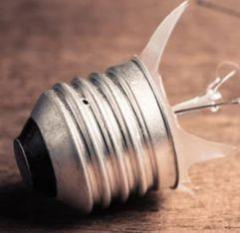lightbulb: (12, 0, 238, 214)
